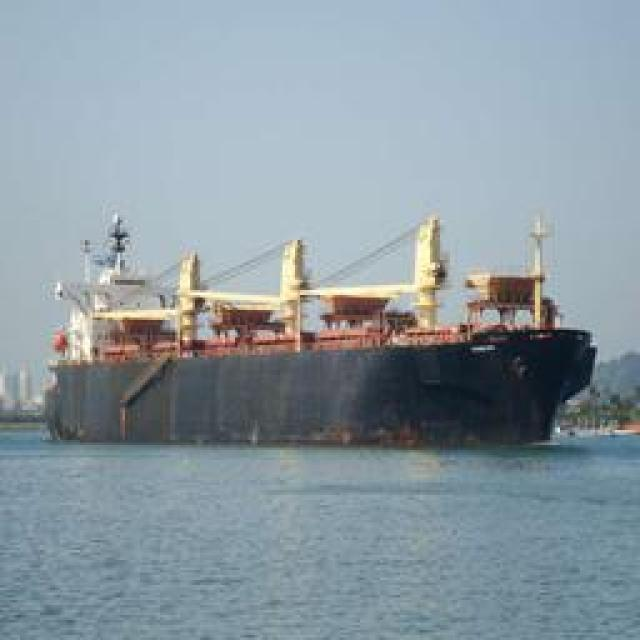ship2: (43, 212, 598, 453)
